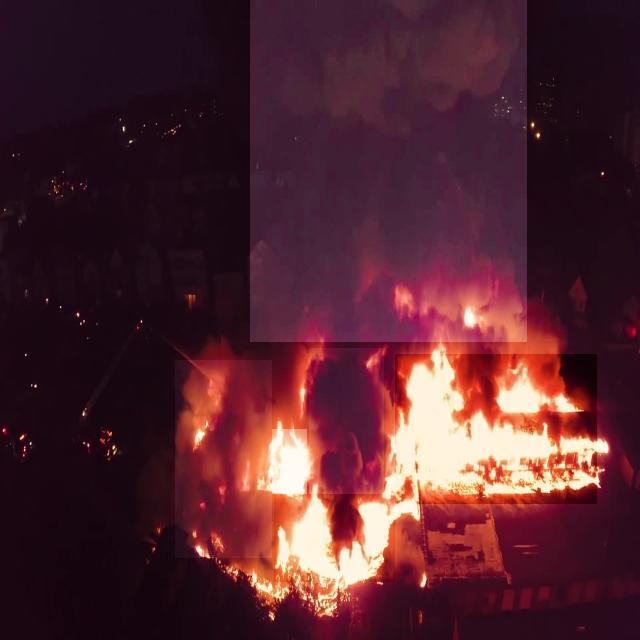Fire: (395, 354, 597, 504), (274, 484, 395, 582), (270, 429, 307, 494)
Smoke: (250, 0, 527, 342), (175, 360, 272, 558), (309, 348, 384, 494)
